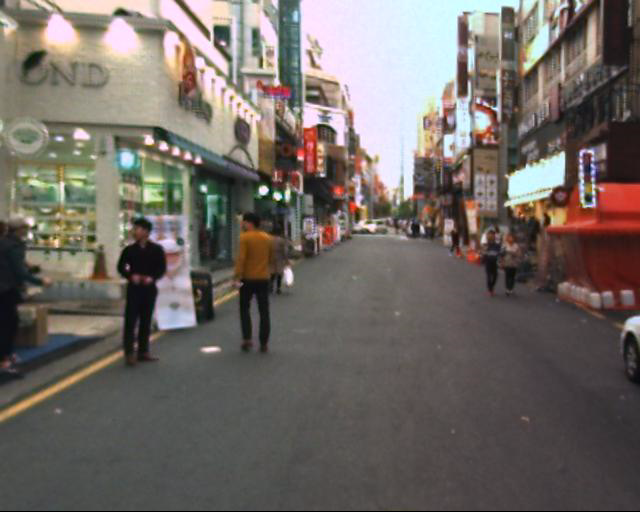person: (222, 195, 286, 358), (113, 206, 172, 370), (0, 206, 49, 379), (500, 220, 527, 302), (480, 229, 507, 297), (446, 220, 468, 261)
